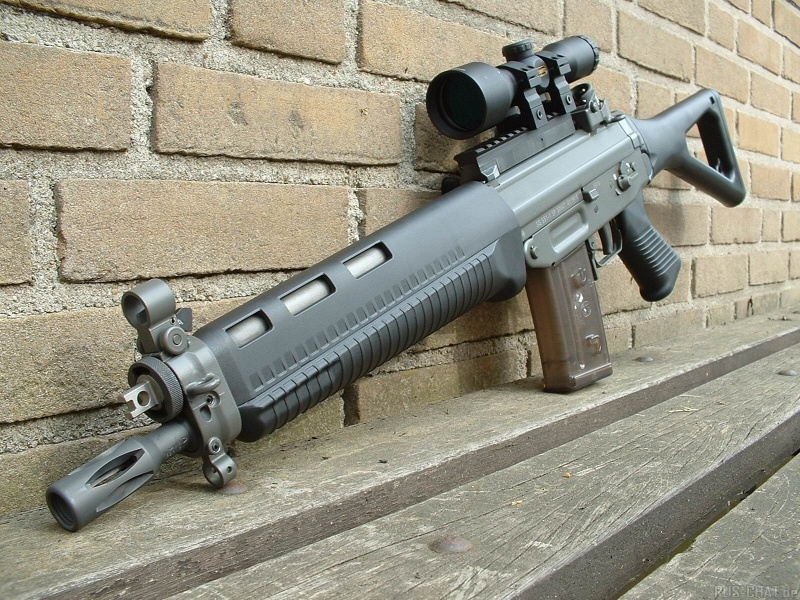weapon: (45, 36, 747, 534)
